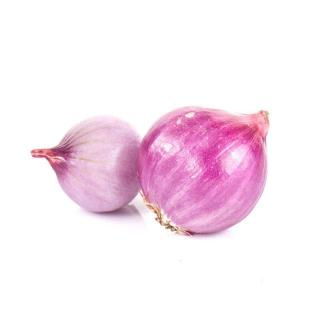Bawang Merah: (138, 104, 275, 240), (26, 112, 146, 220)
